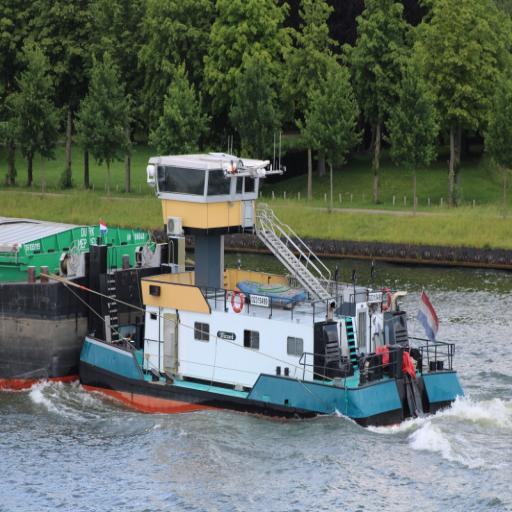tugboat: (76, 147, 469, 439)
